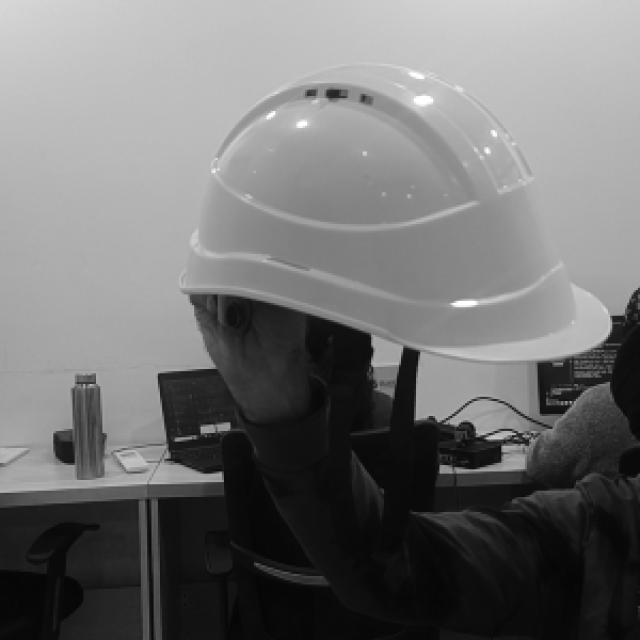safety_helmet: (175, 61, 614, 364)
